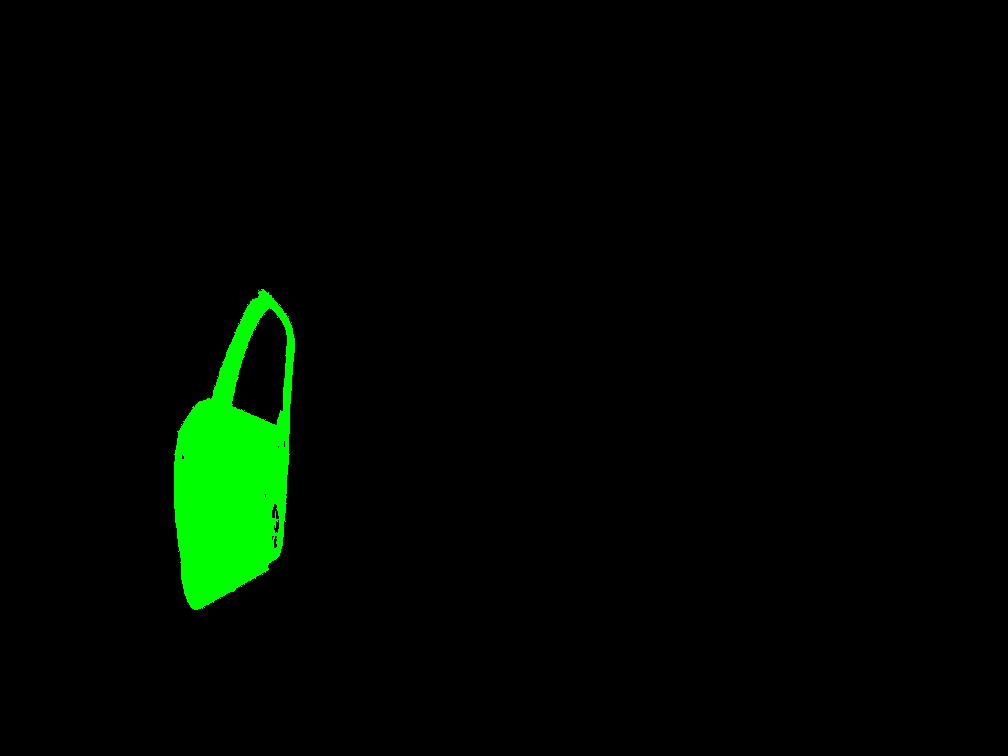car_door: (174, 289, 294, 609)
